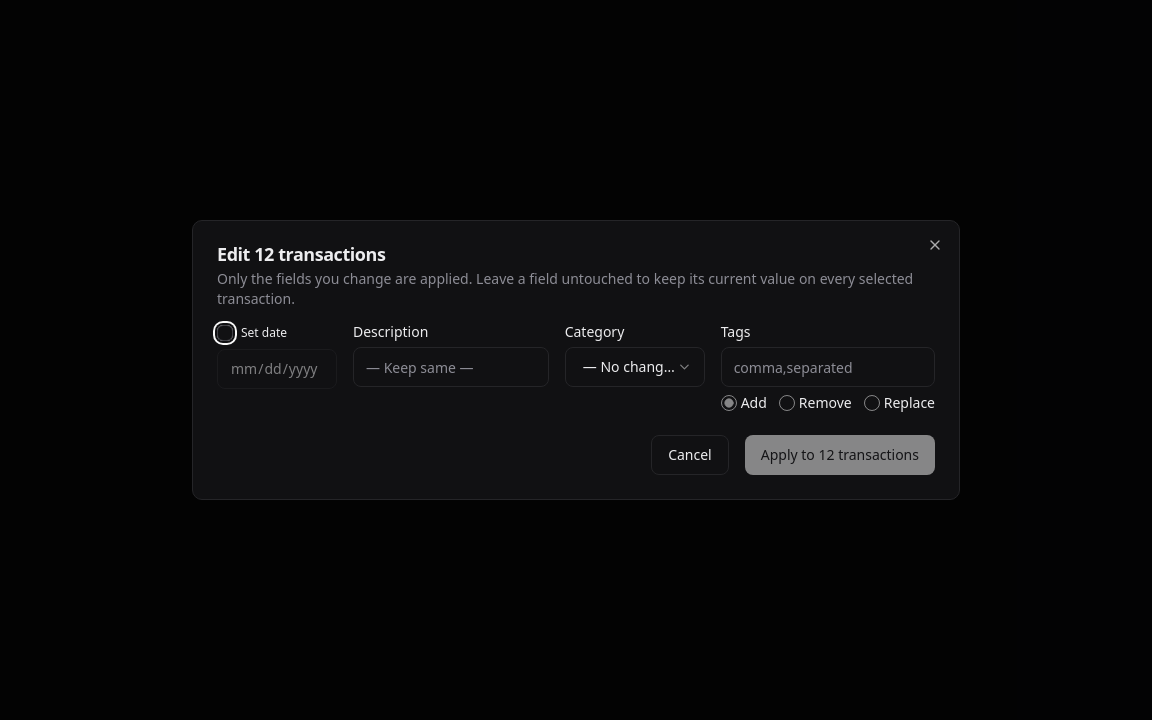
Test: BulkEditDialog › Apply enables when category is changed
Click the dropdown at point(635, 367), box [565,347,705,387]
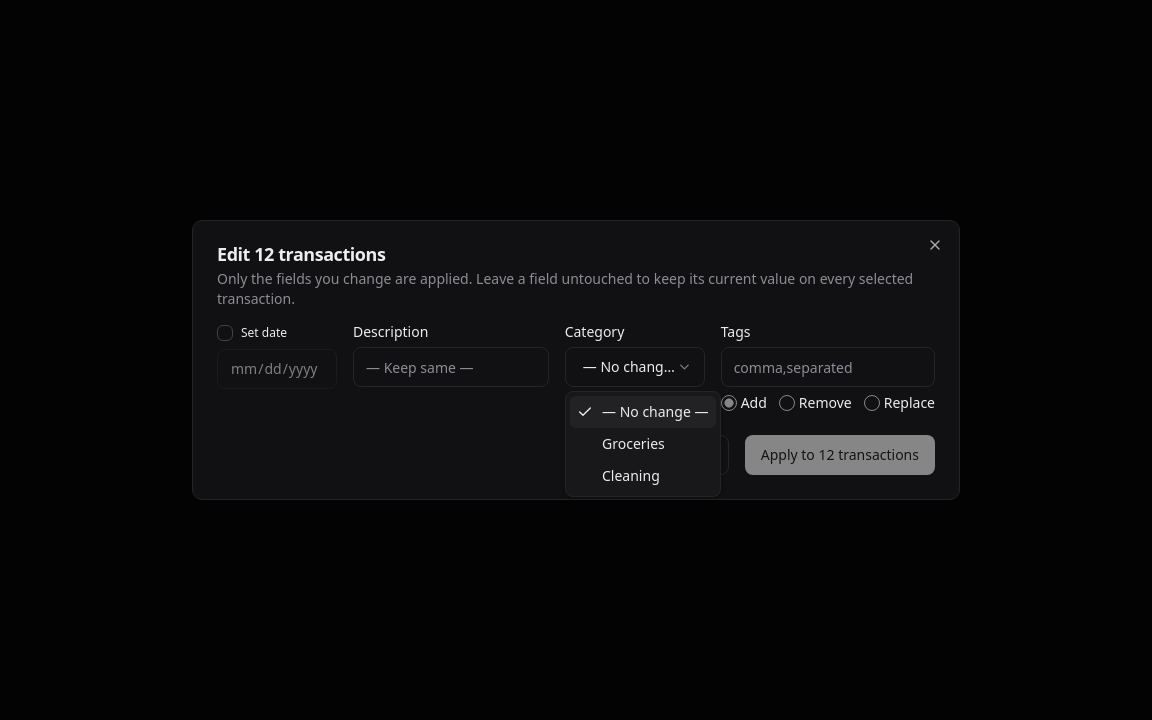
Click the option "Groceries" at point(633, 444), box [602,434,665,453]
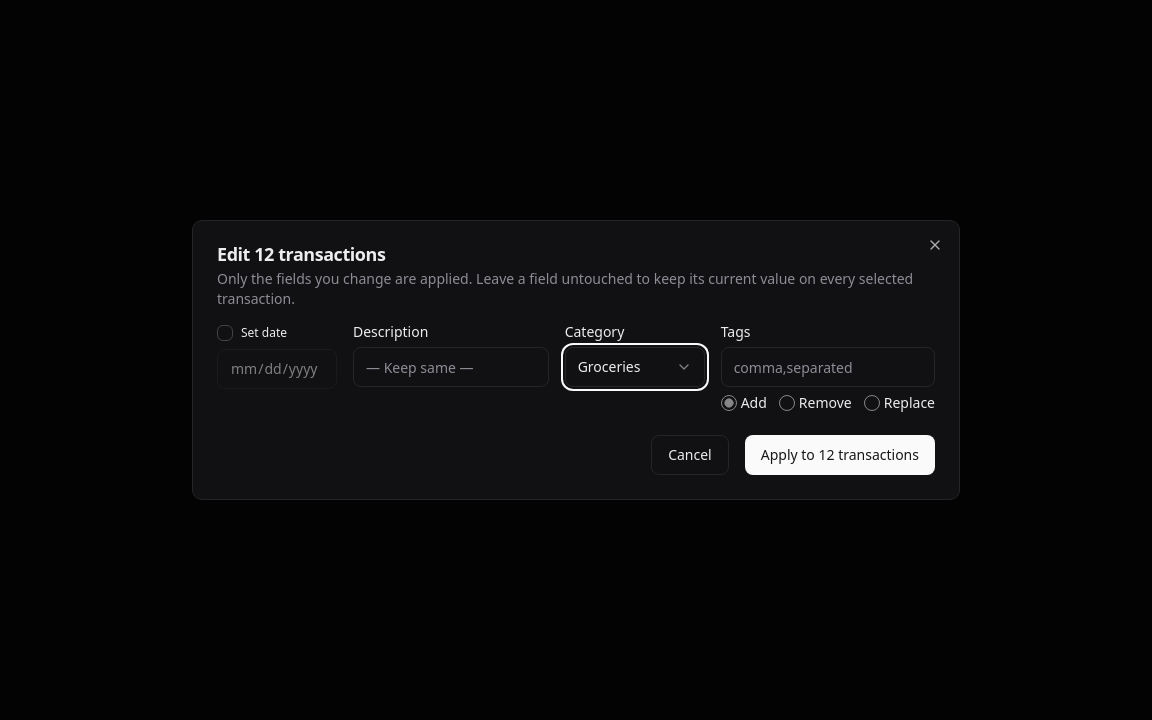
Check: the button "Apply to 12 transactions" is enabled, box [745,435,935,475]
